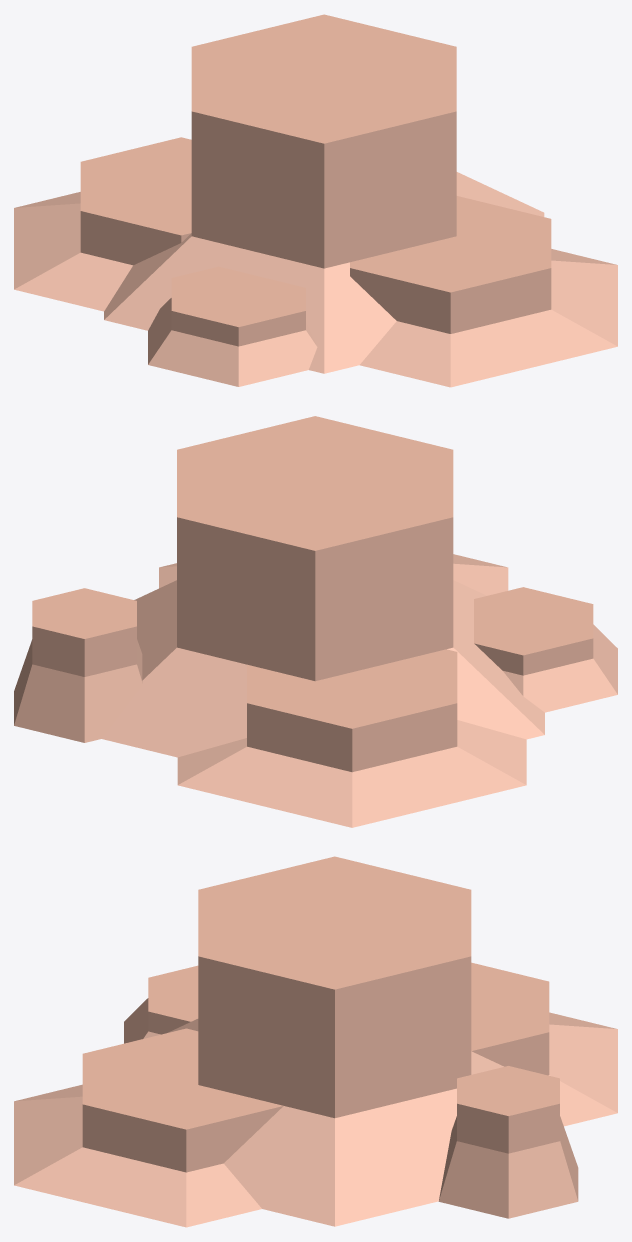
File: rock.glb
The picture shows the model from 3 angles, top to bottom: view 1: azimuth 30°, elevation 25°; view 2: azimuth 150°, elevation 25°; view 3: azimuth 270°, elevation 25°; orthographic projection. The views are drawn at different scales.
Parts seen in each view (by area): view 1: rock; view 2: rock; view 3: rock.
Boxes of the visible parts, left/top/right/bottom form: rock: left=14, top=14, right=617, bottom=387; rock: left=14, top=416, right=617, bottom=827; rock: left=14, top=856, right=617, bottom=1227.
Bounding box in the file's own units: 0.8015 × 0.3 × 0.8509.
